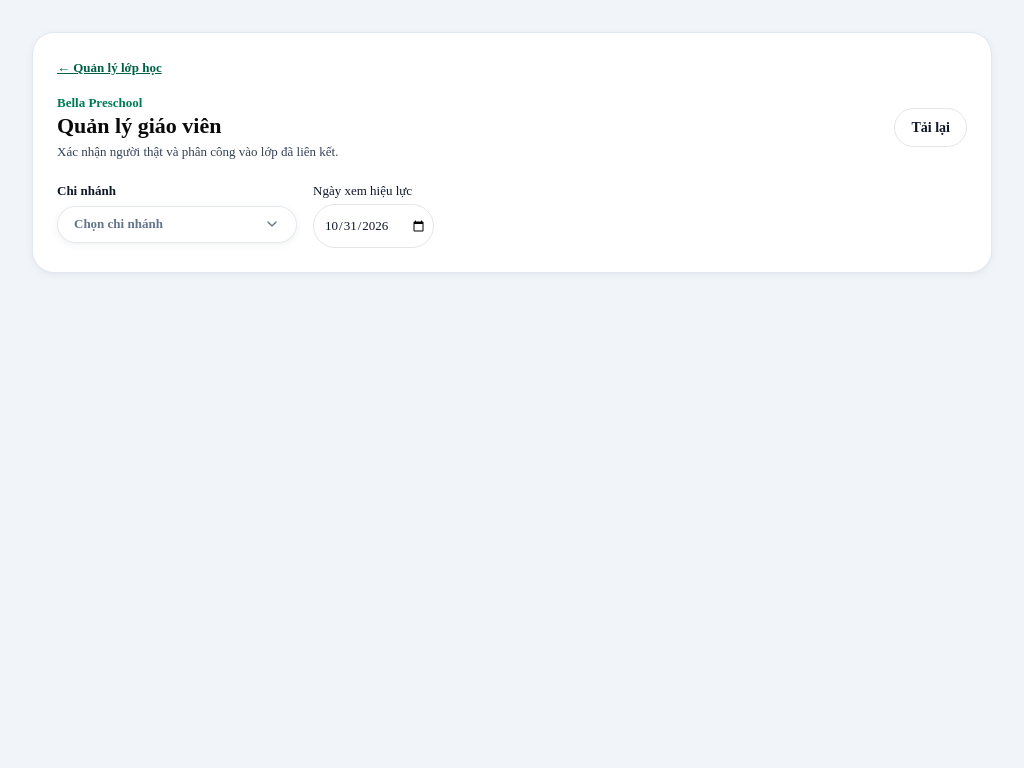
Test: submits an explicit year, role and dates for a confirmed person and reads the roster again
Select "Chi nhánh thật" in the dropdown labelled "Chi nhánh" at coordinates (177, 215), box 57,182 -> 297,248
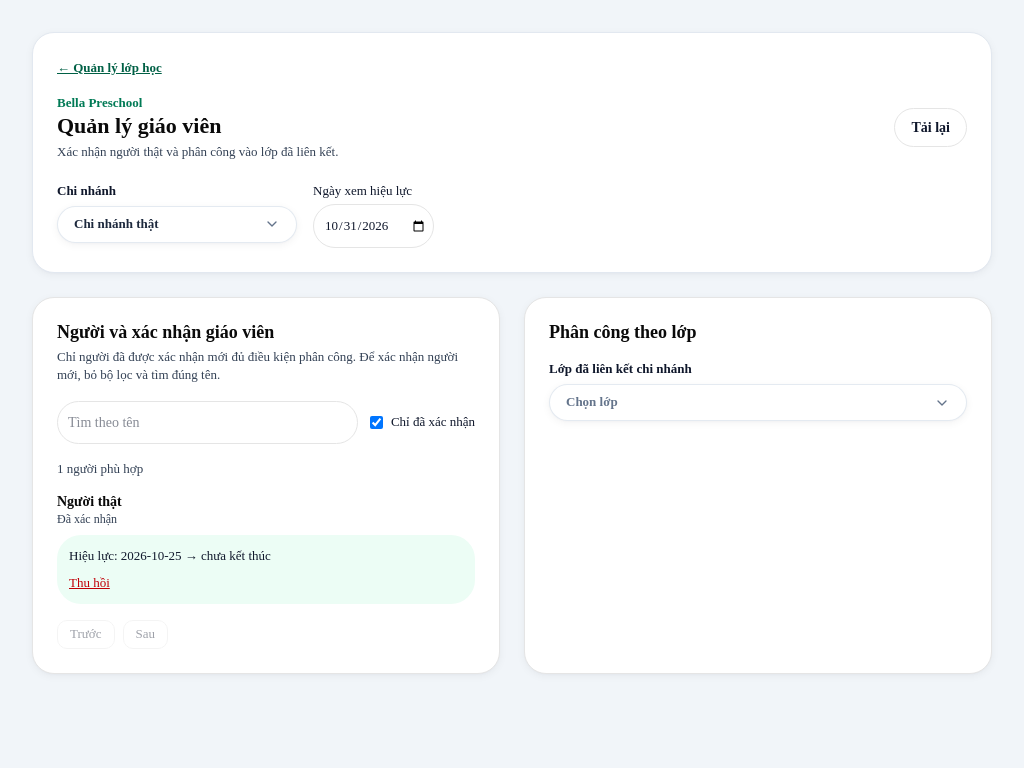
Expected: the text "Đã xác nhận" is shown, 57,511 -> 122,527
Select "Lớp thật (MAM-01)" in the dropdown labelled "Lớp" at coordinates (758, 390), box 549,360 -> 967,421
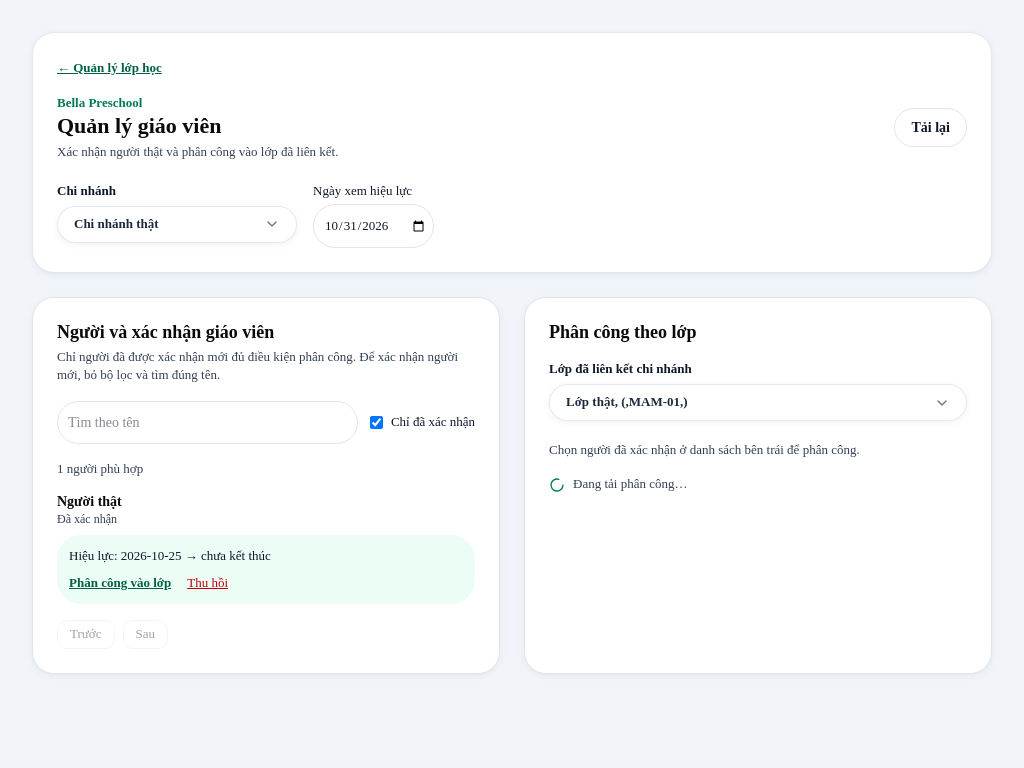
Click the button "Phân công vào lớp" at coordinates (120, 583), box 69,574 -> 171,592
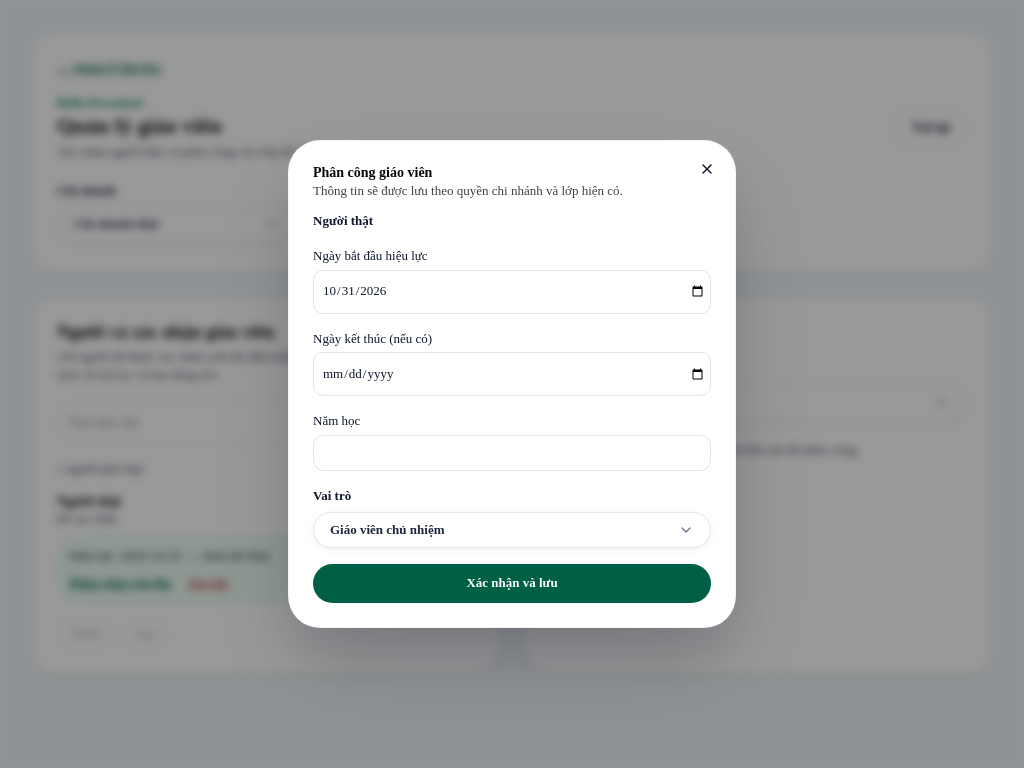
Type "2026-2027" into the field labelled "Năm học" at coordinates (512, 453), box 313,435 -> 711,471
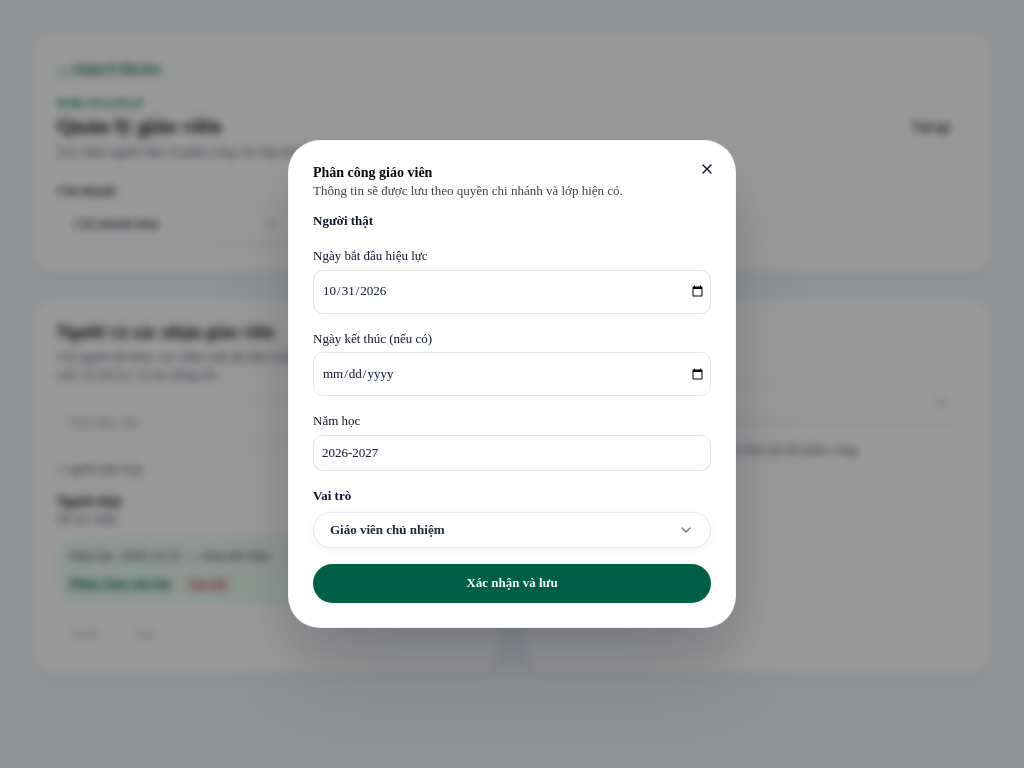
Click the button "Xác nhận và lưu" at coordinates (512, 584), box 313,564 -> 711,603
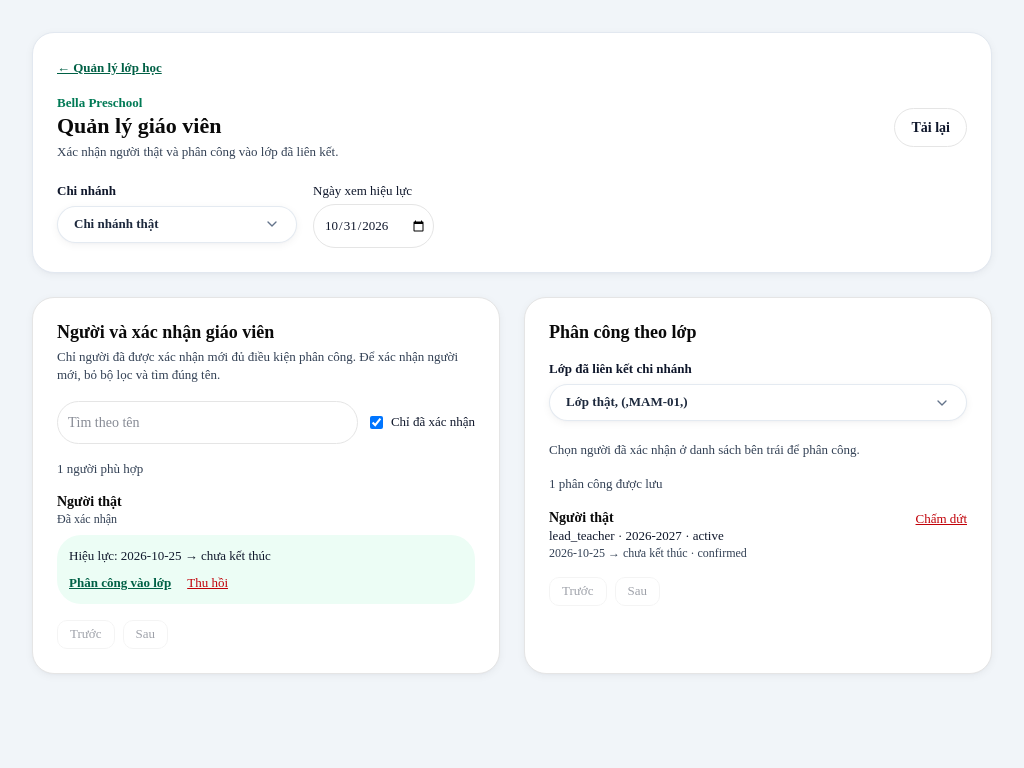
Expected: the text "1 phân công được lưu" is shown, 549,476 -> 662,491
